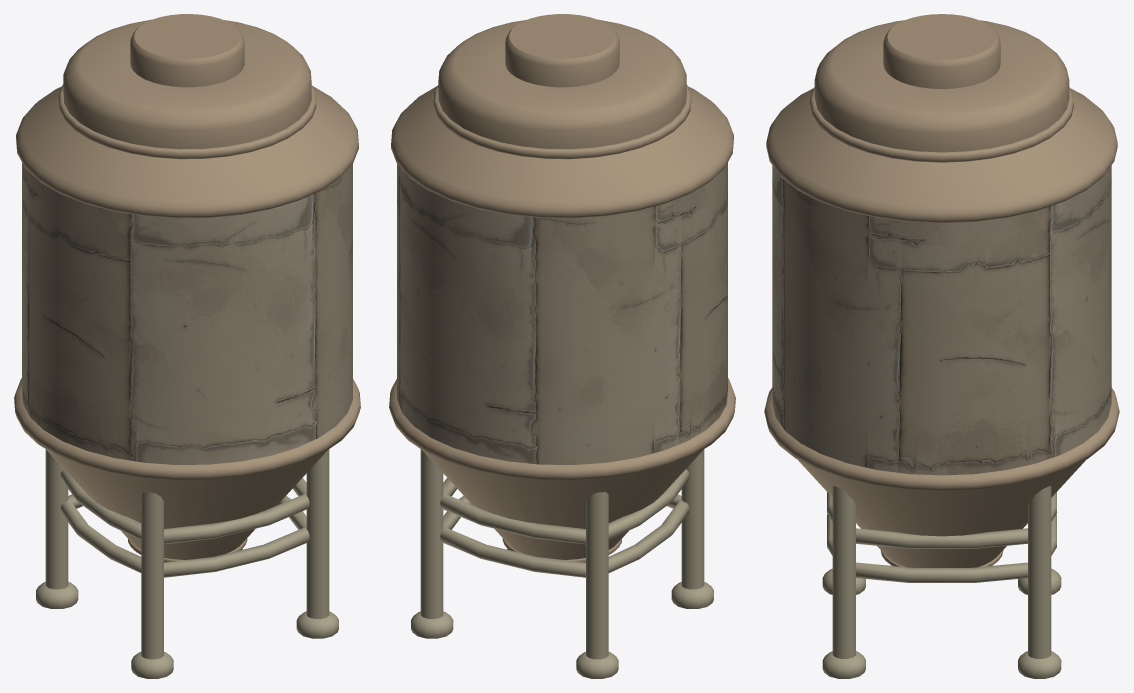
The model's file is SM_cistern_metal_01.glb.
The picture shows the model from 3 angles, left to right: view 1: azimuth 30°, elevation 25°; view 2: azimuth 150°, elevation 25°; view 3: azimuth 270°, elevation 25°; orthographic projection. The views are drawn at different scales.
Parts seen in each view (by area): view 1: SM_cistern_metal_01; view 2: SM_cistern_metal_01; view 3: SM_cistern_metal_01.
Boxes of the visible parts, left/top/right/bottom form: SM_cistern_metal_01: left=14, top=14, right=360, bottom=678; SM_cistern_metal_01: left=389, top=14, right=735, bottom=678; SM_cistern_metal_01: left=764, top=14, right=1119, bottom=678.
Size of the model in its own units: 3.64 by 6.69 by 3.64.
Materials: 3 (1 with a texture image).
